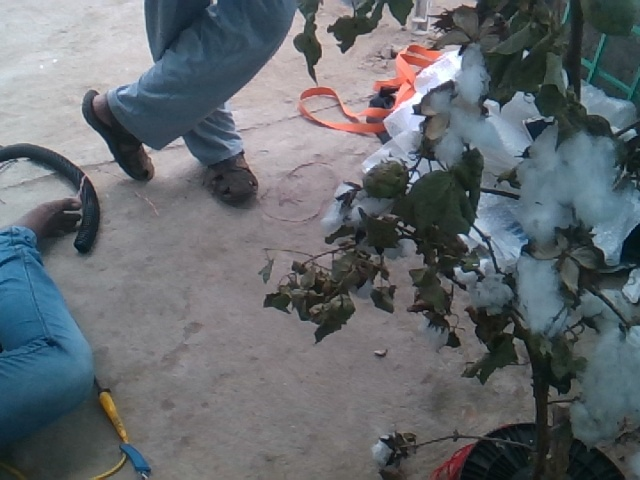cotton: (519, 134, 619, 239), (571, 334, 639, 440), (433, 88, 490, 154), (515, 259, 563, 332), (463, 273, 512, 314)
